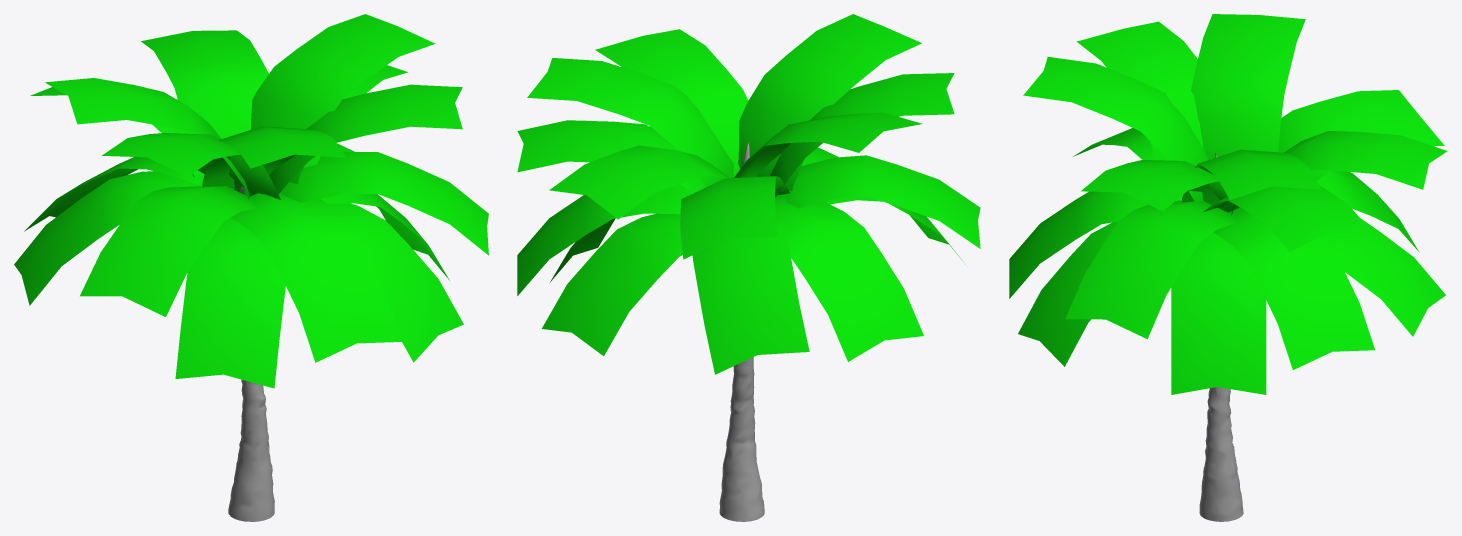
File: Palm_Tree_Low.fbx
The picture shows the model from 3 angles, left to right: view 1: azimuth 30°, elevation 25°; view 2: azimuth 150°, elevation 25°; view 3: azimuth 270°, elevation 25°; orthographic projection. The views are drawn at different scales.
Parts seen in each view (by area): view 1: polySurface12; view 2: polySurface12; view 3: polySurface12.
Boxes of the visible parts, <box> form: polySurface12: <box>14,14,488,521</box>; polySurface12: <box>517,14,980,521</box>; polySurface12: <box>1009,14,1447,521</box>.
Bounding box in the file's own units: 2174 × 2260 × 2131.
